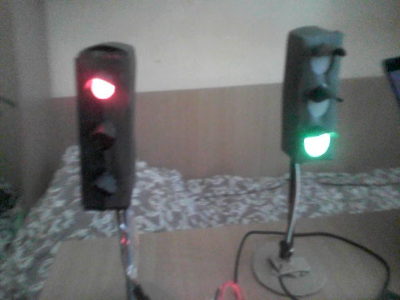trafficlight_green: (293, 30, 341, 160)
trafficlight_red: (77, 52, 130, 208)
